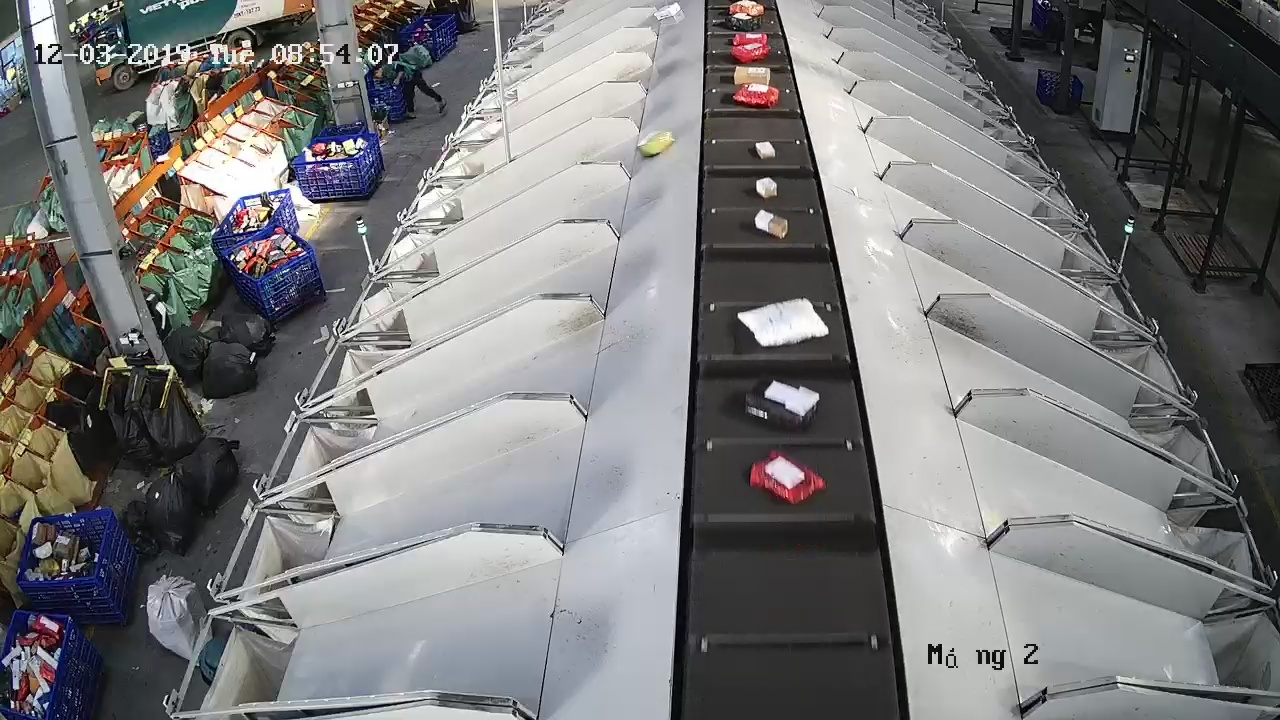parcel: (734, 296, 831, 350), (747, 449, 829, 507), (742, 376, 822, 433), (752, 208, 790, 241), (634, 129, 677, 158), (754, 175, 779, 201), (753, 139, 777, 161)
